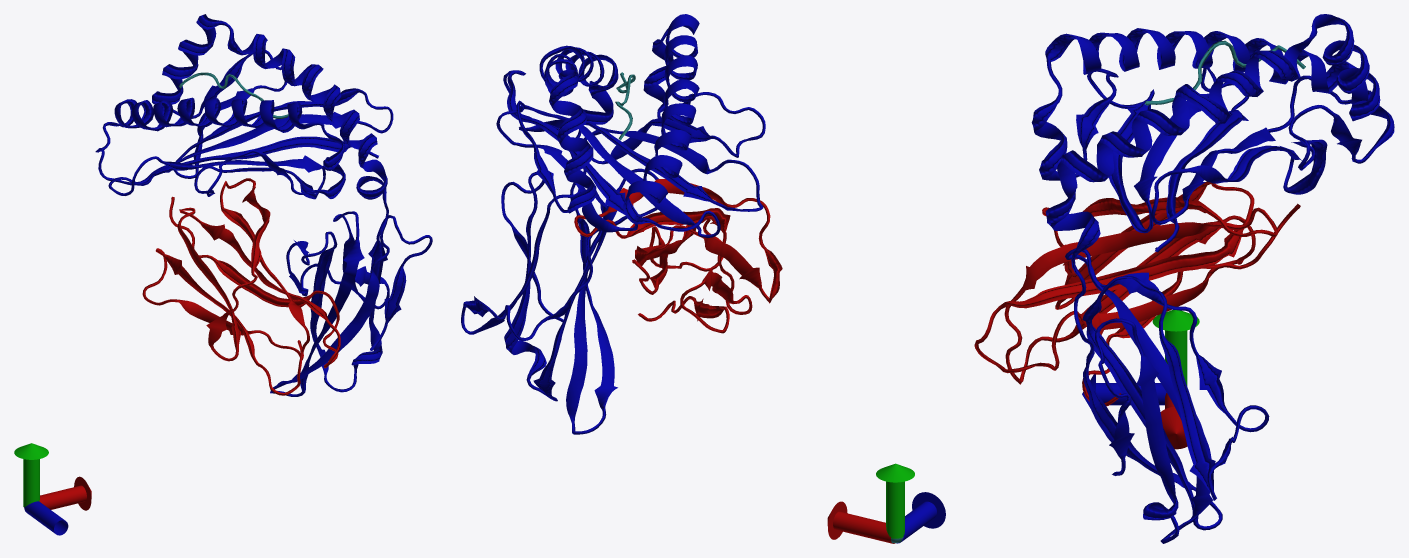
The model's file is 2vaa.obj.
3 renders of one model, left to right at view 1: azimuth 30°, elevation 25°; view 2: azimuth 150°, elevation 25°; view 3: azimuth 270°, elevation 25°, orthographic. The views are drawn at different scales.
Parts seen in each view (by area): view 1: vmd_mol5_rep0, vmd_axes; view 2: vmd_mol5_rep0, vmd_axes; view 3: vmd_mol5_rep0, vmd_axes.
Part boxes in pixels (x1=…): vmd_mol5_rep0: x1=95, y1=14, x2=432, y2=396; vmd_axes: x1=14, y1=443, x2=91, y2=535; vmd_mol5_rep0: x1=461, y1=14, x2=782, y2=434; vmd_axes: x1=827, y1=463, x2=945, y2=543; vmd_mol5_rep0: x1=974, y1=14, x2=1394, y2=543; vmd_axes: x1=1082, y1=310, x2=1199, y2=449.
Bounding box in the file's own units: 1.62 × 1.62 × 1.11.
